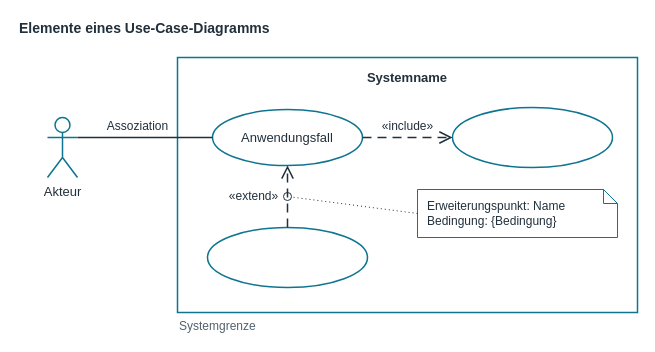
Image size: 655x352. Some labels were removed from this diagram. Here are the shapes that lost their labels. From the top down, the centre of each, then its label:
At (532,137): "eingebundener Anwendungsfall".
At (287,257): "erweiternder Anwendungsfall".
